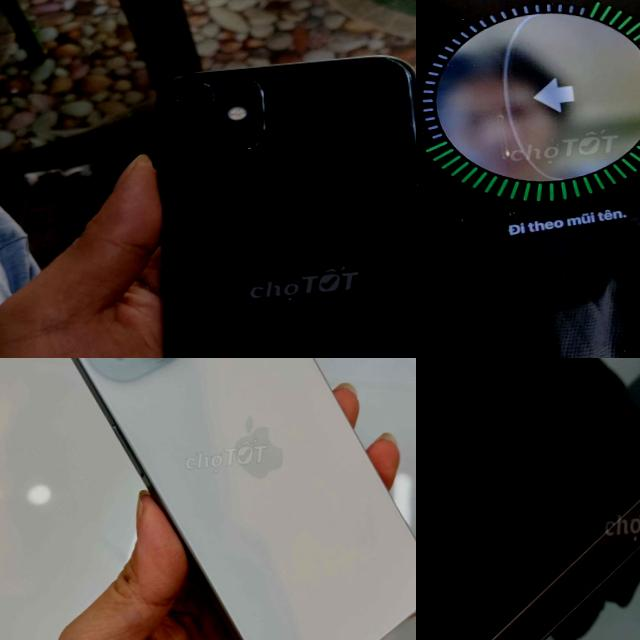gen_11: (114, 27, 416, 358), (416, 0, 640, 358)
gen_14: (416, 427, 640, 640)
gen_15: (39, 358, 416, 640)
scratch: (378, 44, 416, 358), (285, 82, 393, 161)
